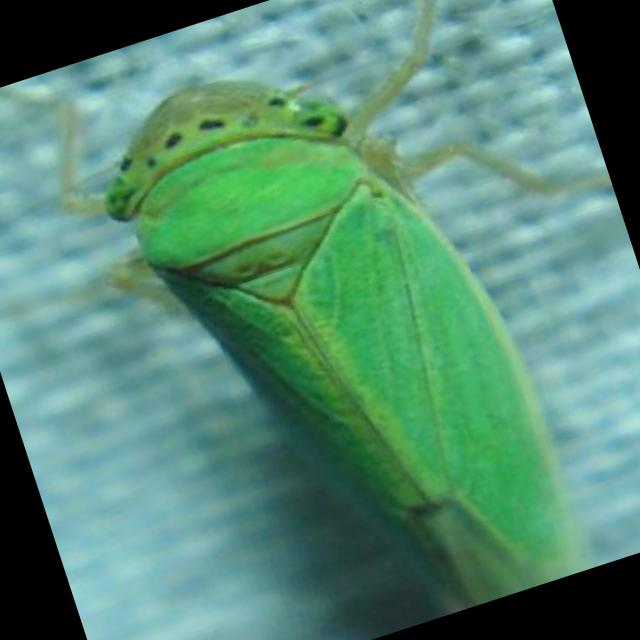green-leafhopper: (66, 0, 590, 640)
